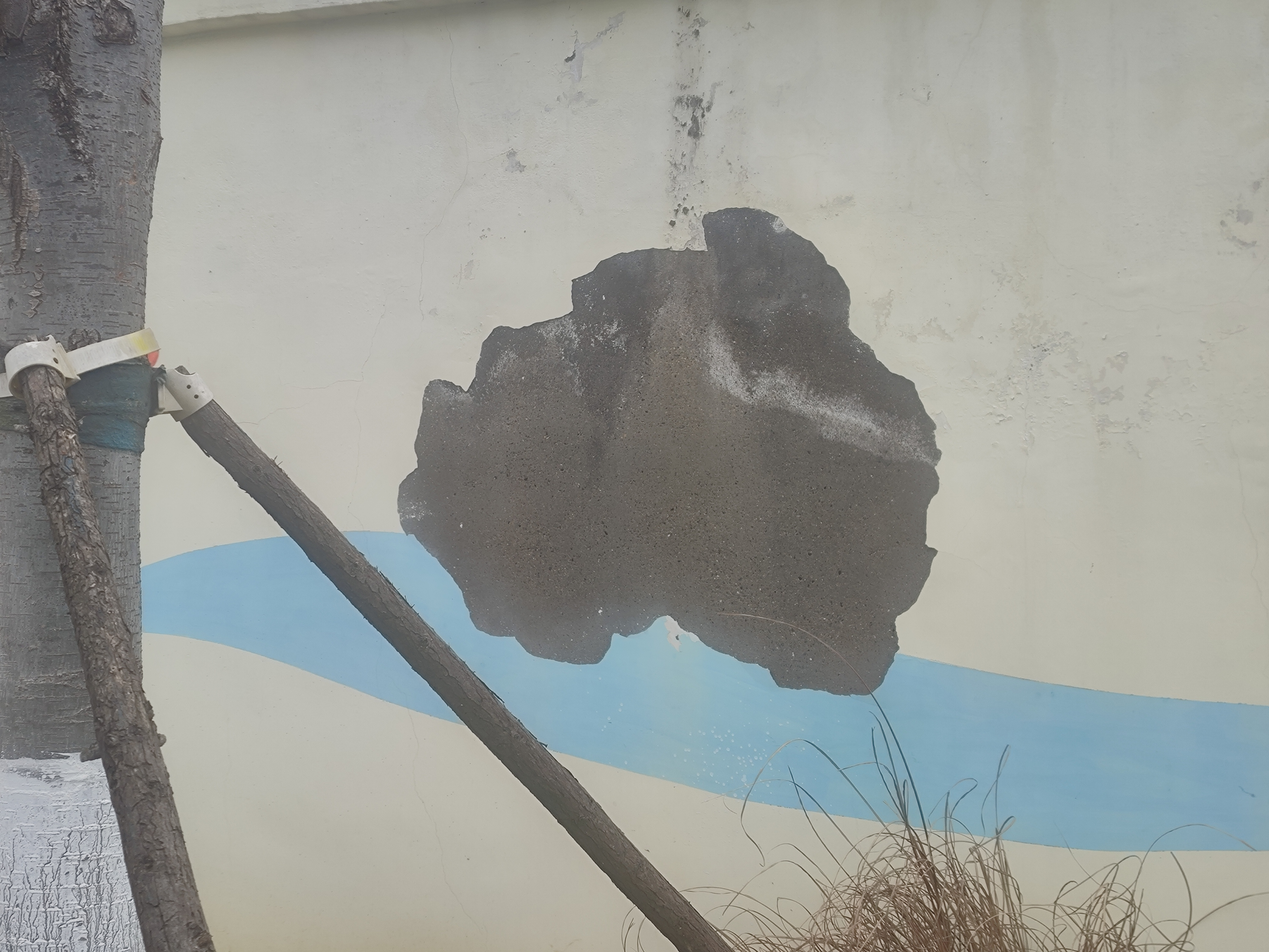wall_peeling: (400, 207, 944, 697)
